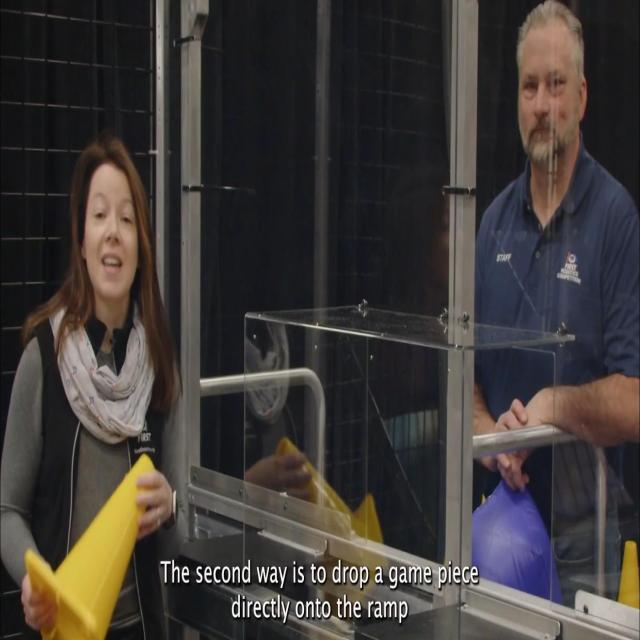frc_cone: (25, 450, 155, 640), (618, 535, 640, 611)
frc_cube: (472, 474, 562, 608)
